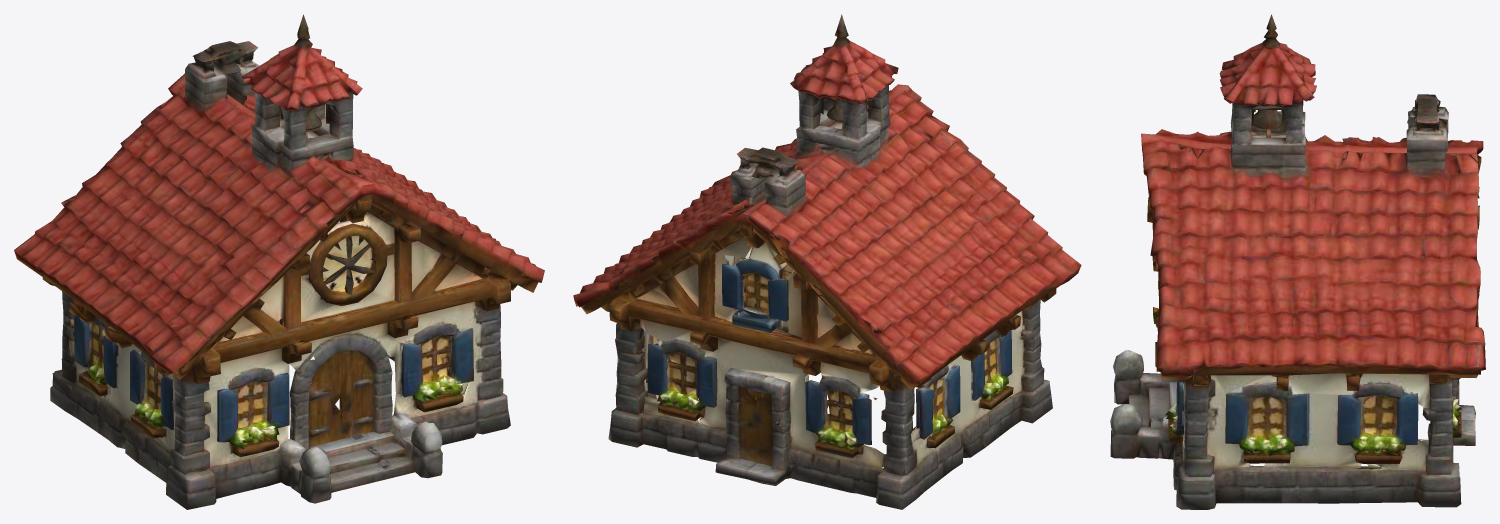
3 views of the same model, side by side, from view 1: azimuth 30°, elevation 25°; view 2: azimuth 150°, elevation 25°; view 3: azimuth 270°, elevation 25° (orthographic). The views are drawn at different scales.
Visible parts, largest first — view 1: alpine__civic_hall__native_mobile; view 2: alpine__civic_hall__native_mobile; view 3: alpine__civic_hall__native_mobile.
Boxes of the visible parts, x1=… form: alpine__civic_hall__native_mobile: x1=14, y1=14, x2=544, y2=509; alpine__civic_hall__native_mobile: x1=573, y1=14, x2=1081, y2=509; alpine__civic_hall__native_mobile: x1=1110, y1=14, x2=1485, y2=509.
Size of the model in its own units: 0.9581 by 1 by 0.8142.
Materials: 1 (1 with a texture image).
